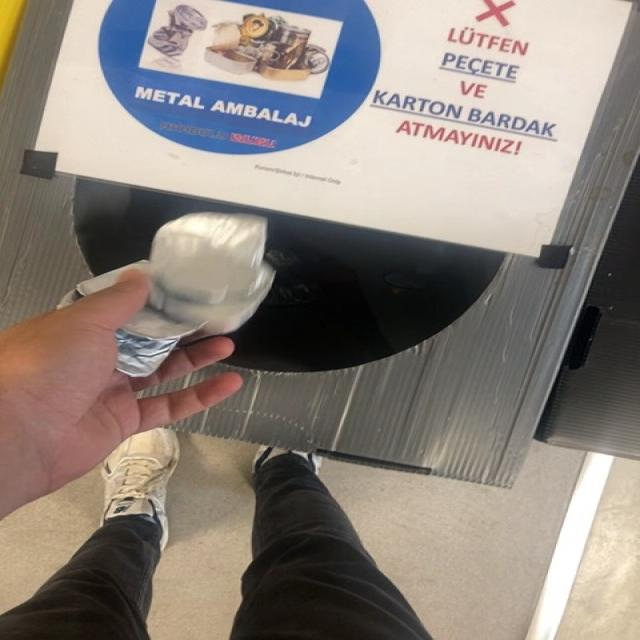bin: (1, 0, 639, 486)
metal: (58, 212, 275, 378)
